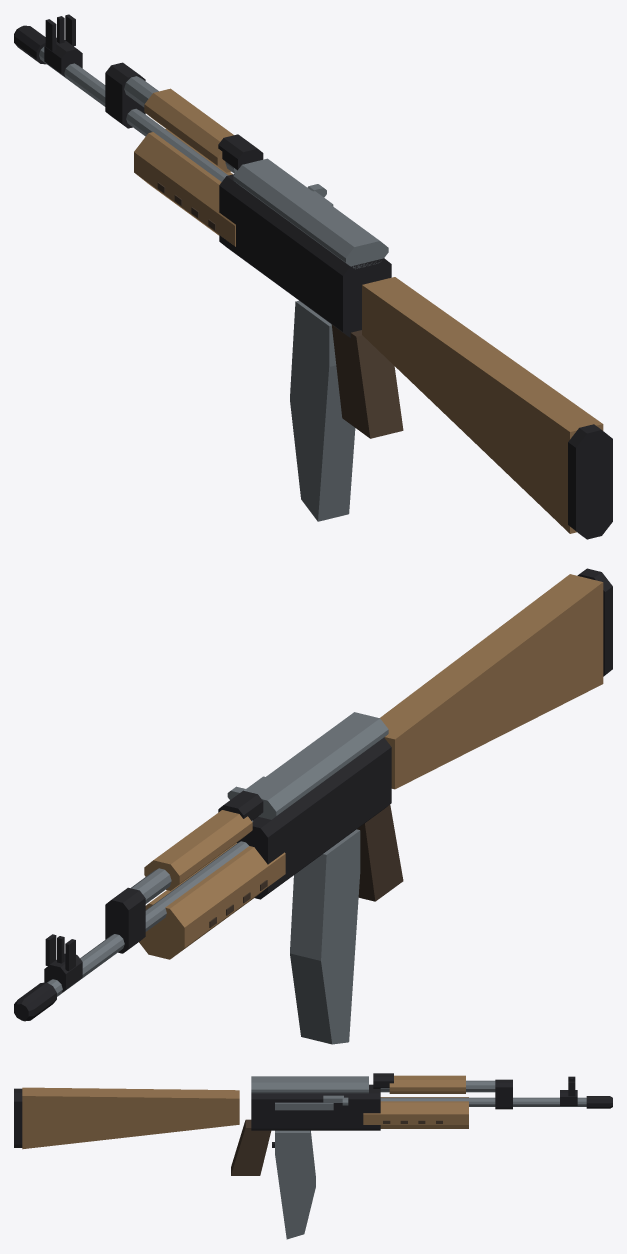
The picture shows the model from 3 angles, top to bottom: view 1: azimuth 30°, elevation 25°; view 2: azimuth 150°, elevation 25°; view 3: azimuth 270°, elevation 25°; orthographic projection. The views are drawn at different scales.
Parts seen in each view (by area): view 1: ak47, mag; view 2: ak47, mag; view 3: ak47, mag.
Boxes of the visible parts, x1=… form: ak47: x1=14, y1=14, x2=612, y2=539; mag: x1=290, y1=300, x2=355, y2=521; ak47: x1=14, y1=568, x2=612, y2=1021; mag: x1=290, y1=829, x2=360, y2=1044; ak47: x1=14, y1=1073, x2=612, y2=1175; mag: x1=275, y1=1130, x2=315, y2=1239.
Bounding box in the file's own units: 0.075 × 0.301 × 1.02.
1 material, 1 textured.
